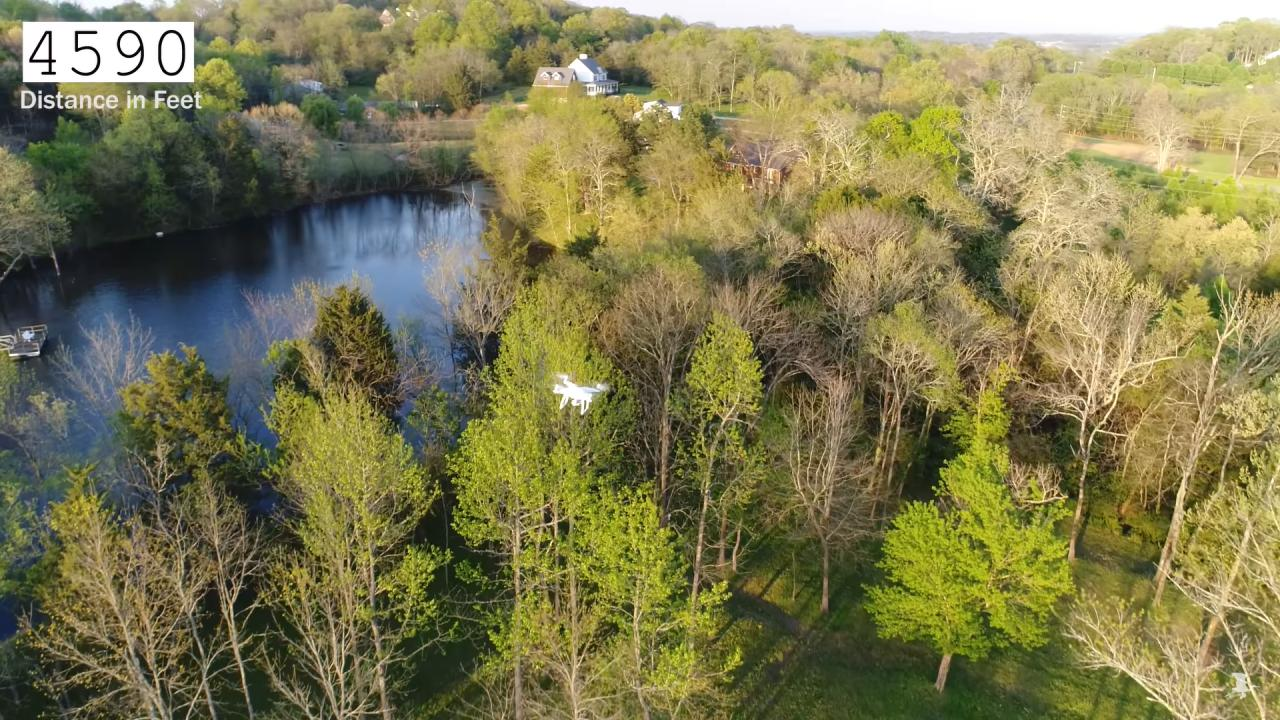Drone: (547, 366, 616, 421)
